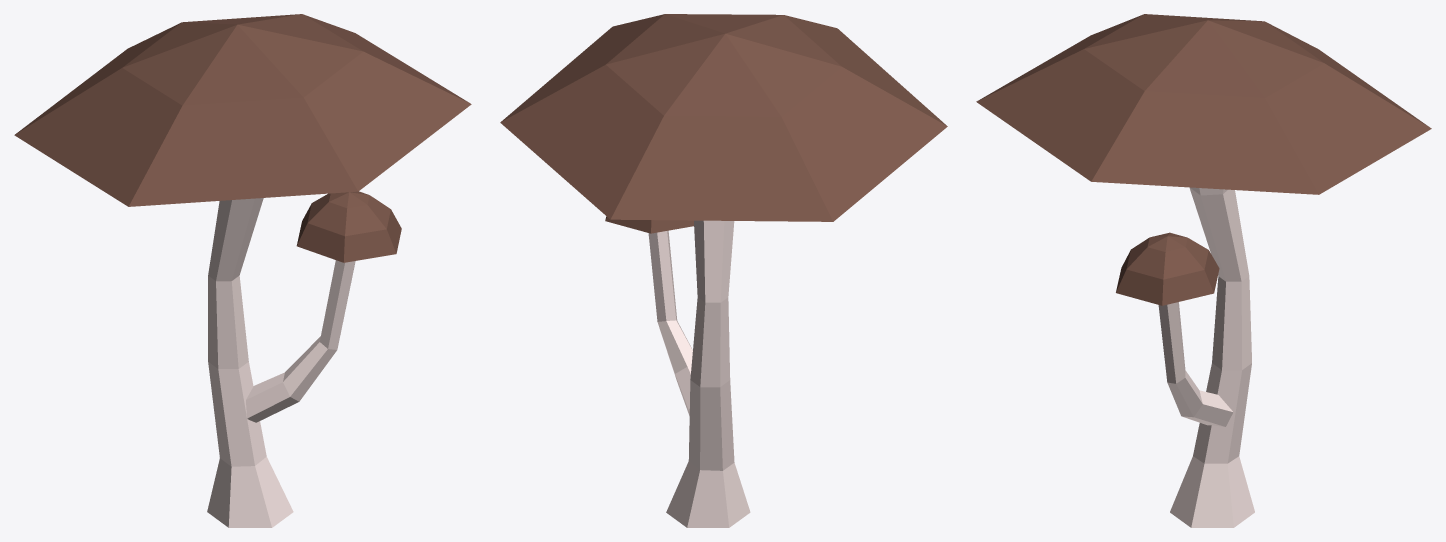
The model's file is mushroom_007.fbx.
3 renders of one model, left to right at view 1: azimuth 30°, elevation 25°; view 2: azimuth 150°, elevation 25°; view 3: azimuth 270°, elevation 25°, orthographic. The views are drawn at different scales.
Parts seen in each view (by area): view 1: mushroom.007; view 2: mushroom.007; view 3: mushroom.007.
Part boxes in pixels (<box>): mushroom.007: <box>14,14,471,527</box>; mushroom.007: <box>500,14,947,527</box>; mushroom.007: <box>976,14,1431,527</box>.
Bounding box in the file's own units: 462 × 633 × 540.
1 material, 1 textured.
